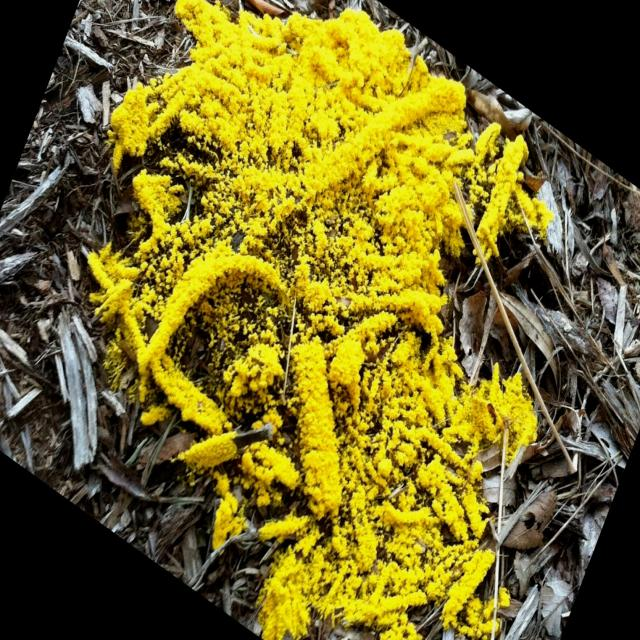Dog_vomit_slime_mold: (84, 0, 569, 640)
